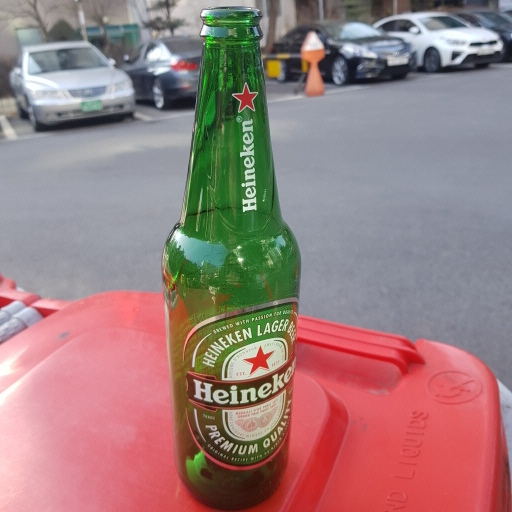Glass_1: (154, 6, 304, 506)
